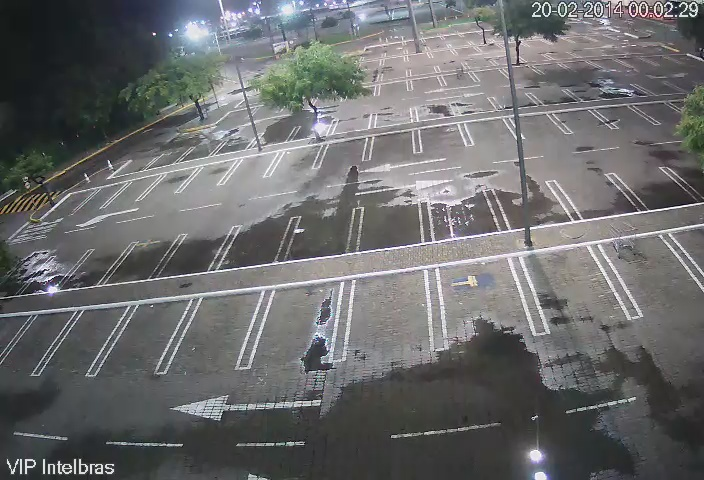lot: (336, 265, 443, 366), (598, 233, 704, 324), (433, 259, 534, 352), (515, 248, 625, 324), (270, 276, 343, 371), (187, 286, 264, 376), (120, 290, 184, 372), (64, 297, 122, 376), (550, 173, 643, 219), (425, 190, 503, 239), (356, 201, 426, 252), (493, 181, 572, 226), (20, 307, 66, 384), (228, 217, 290, 269), (619, 168, 693, 211), (290, 211, 355, 255), (171, 229, 225, 277), (124, 233, 167, 282), (77, 242, 118, 293), (456, 117, 519, 148), (553, 106, 616, 137), (596, 101, 654, 133), (511, 110, 567, 143), (31, 244, 67, 294), (373, 128, 418, 167), (414, 123, 464, 153), (232, 153, 273, 187), (323, 140, 364, 173), (278, 146, 320, 176), (190, 164, 227, 195), (152, 173, 190, 203), (82, 185, 119, 212), (122, 177, 152, 210), (54, 191, 90, 216), (375, 105, 415, 127), (119, 150, 151, 175), (257, 124, 289, 148), (220, 132, 257, 152), (497, 95, 543, 111), (418, 102, 456, 121), (293, 123, 328, 142), (188, 137, 218, 158), (531, 91, 575, 105), (455, 99, 498, 113), (336, 116, 374, 131), (157, 148, 182, 164)
